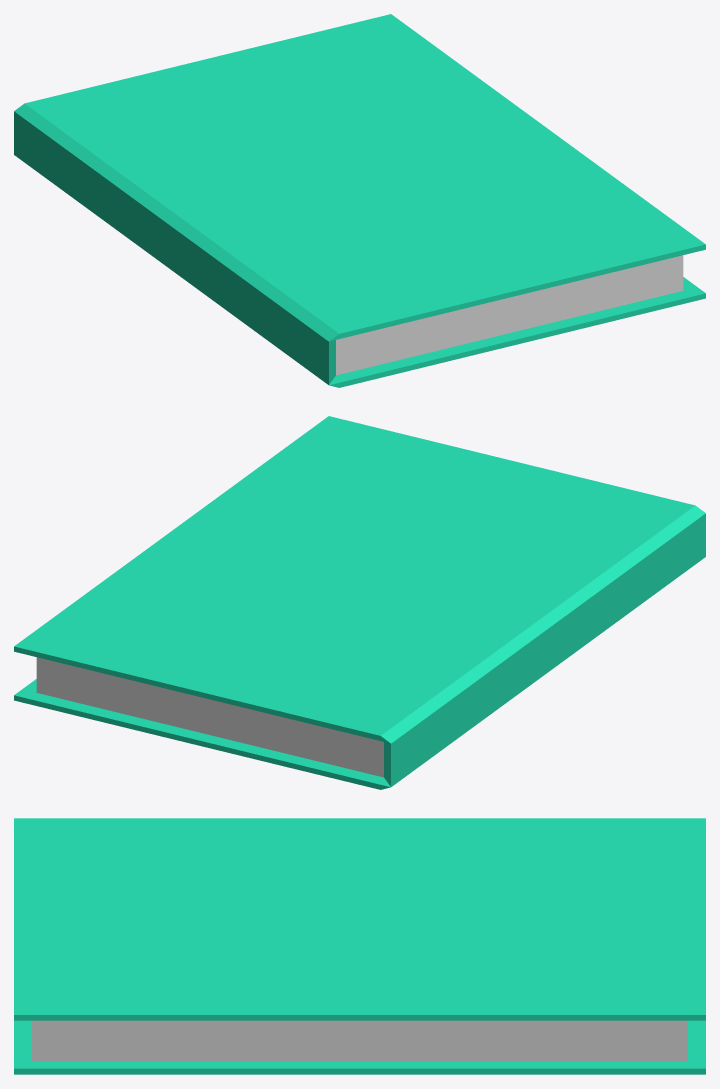
The model's file is Book 1.fbx.
The picture shows the model from 3 angles, top to bottom: view 1: azimuth 30°, elevation 25°; view 2: azimuth 150°, elevation 25°; view 3: azimuth 270°, elevation 25°; orthographic projection. The views are drawn at different scales.
Visible parts, largest first — view 1: Cube; view 2: Cube; view 3: Cube.
Part boxes in pixels (left/top/right/bottom): Cube: left=14, top=14, right=705, bottom=387; Cube: left=14, top=416, right=705, bottom=789; Cube: left=14, top=818, right=705, bottom=1074.
Size of the model in its own units: 242 by 33.14 by 350.
